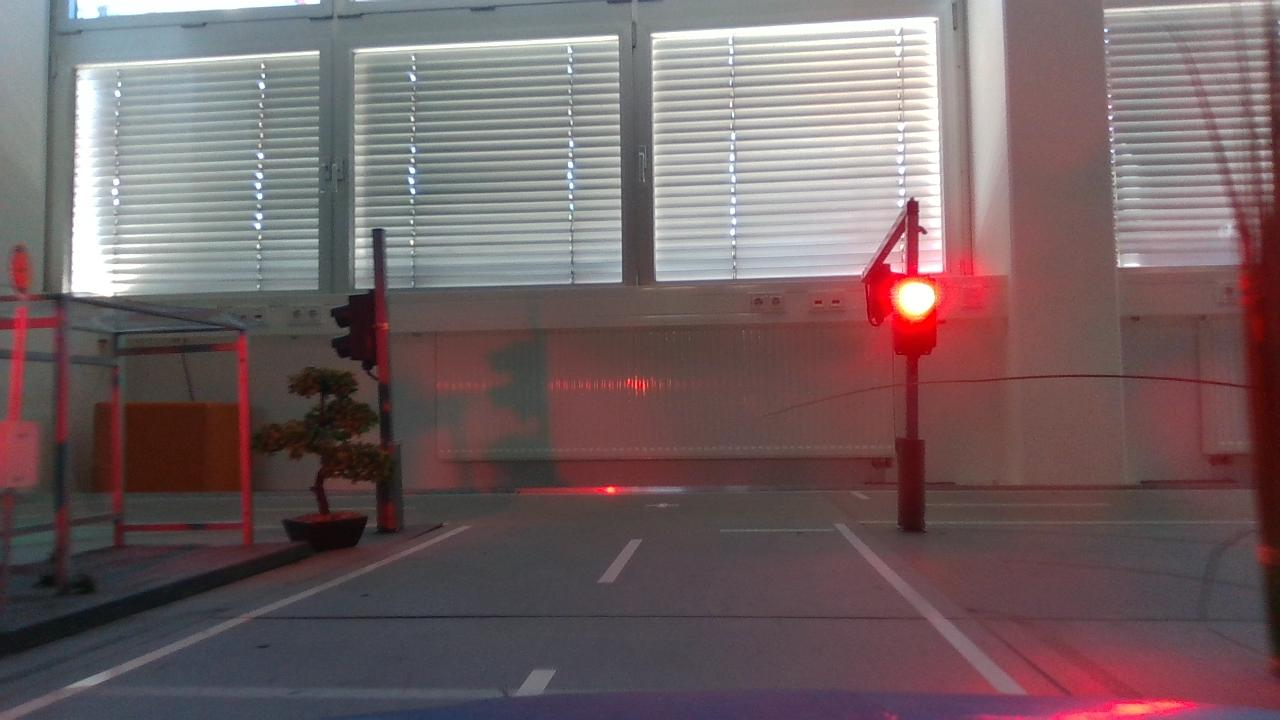traffic_light_red: (883, 261, 955, 365)
